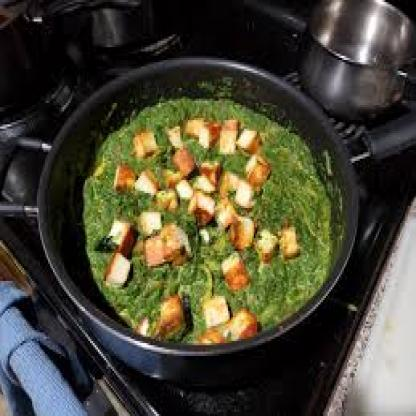palak_paneer: (84, 99, 332, 345)
